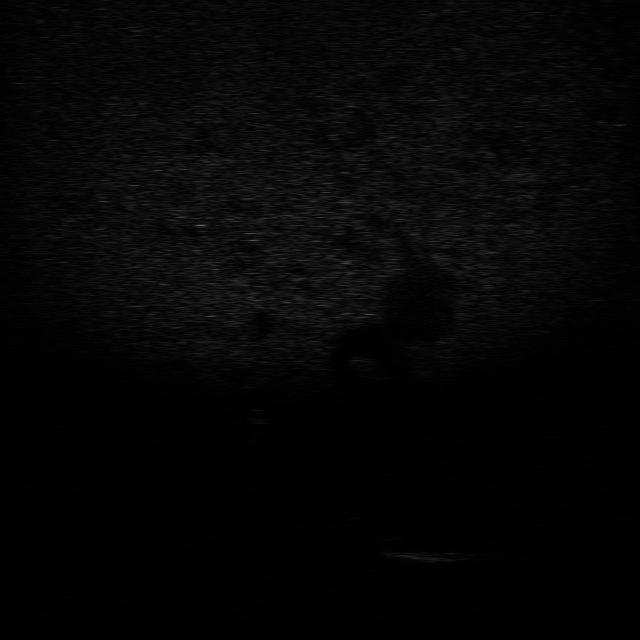ball: (242, 406, 280, 426)
metal bucket: (385, 546, 469, 566)
tyre: (335, 514, 404, 542)
